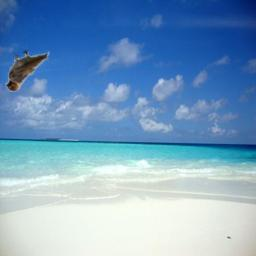Swallow: (5, 50, 50, 92)
